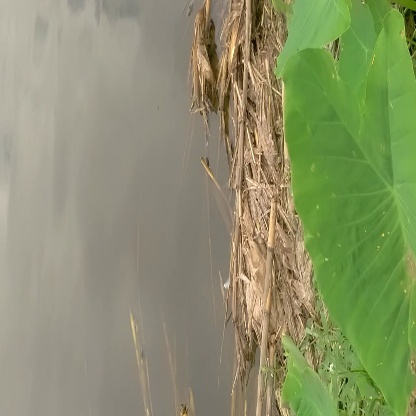branch: (190, 5, 223, 125)
